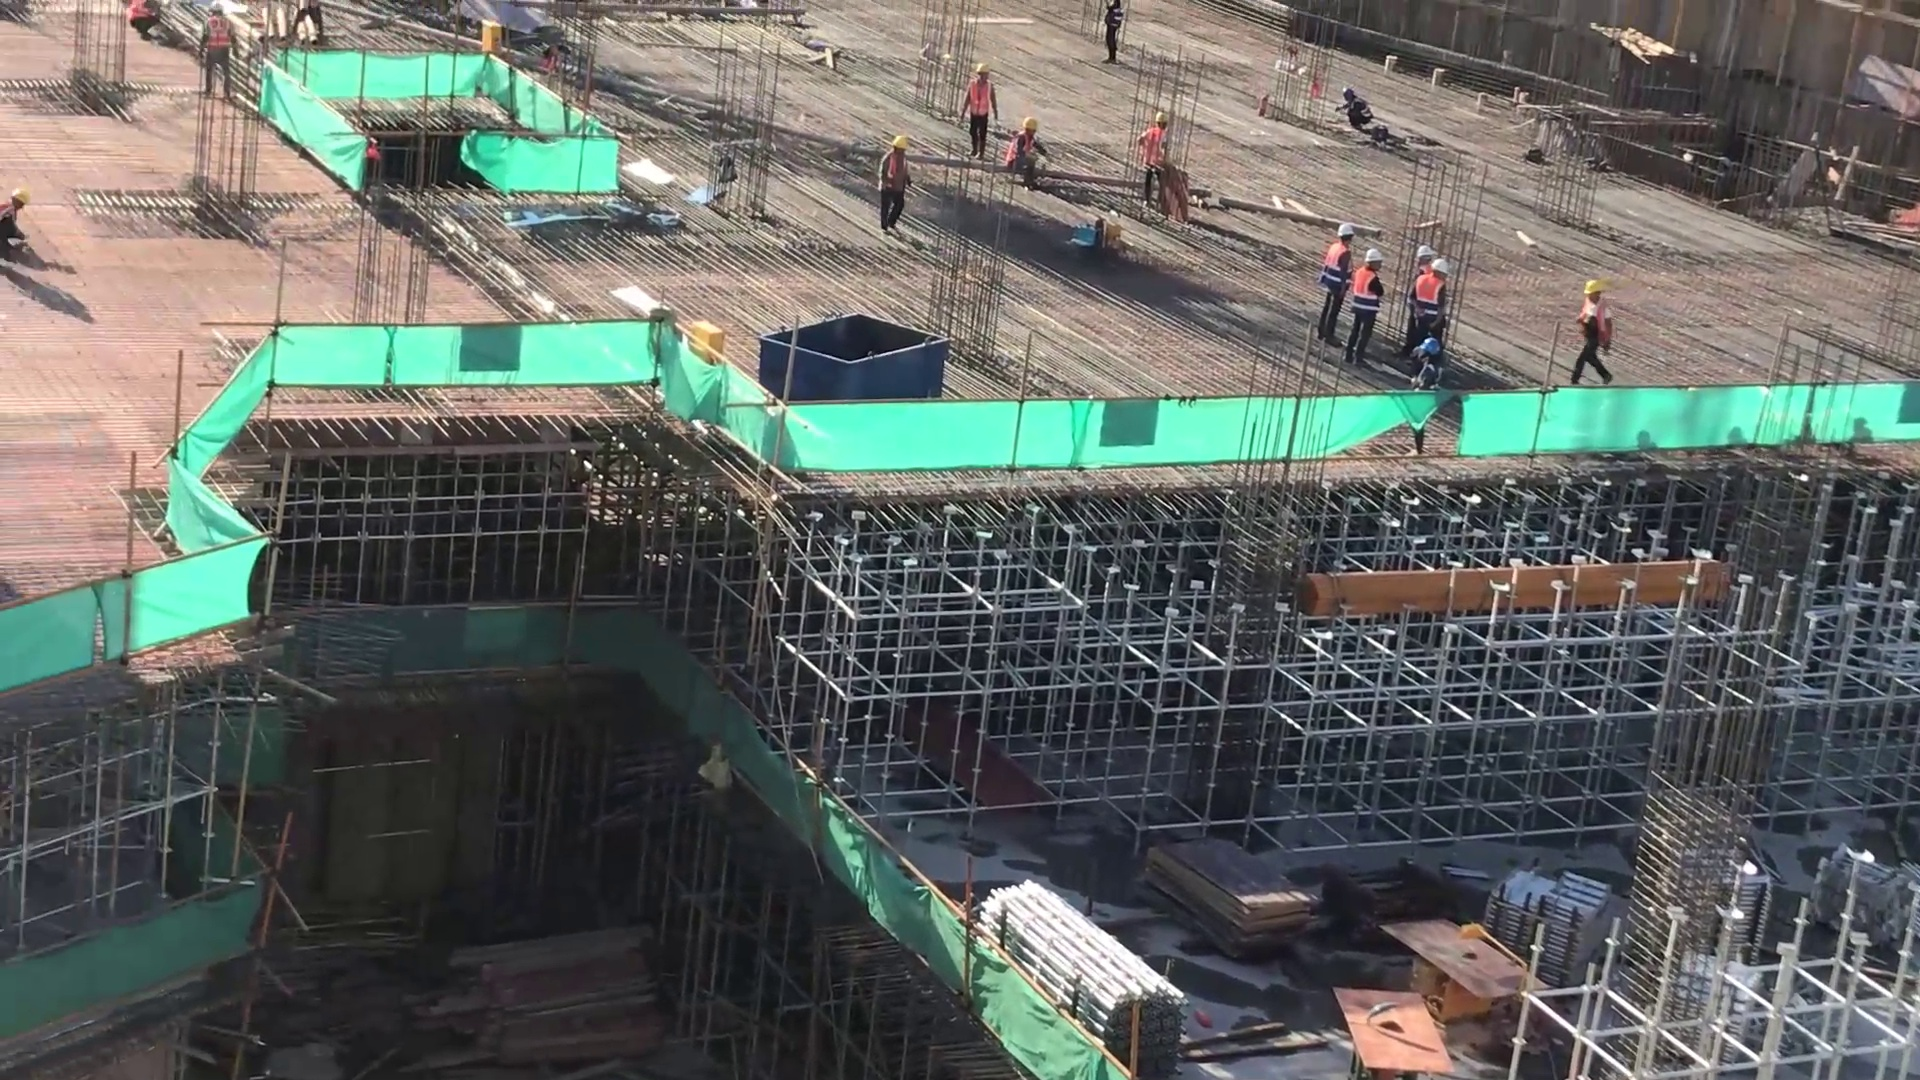board: (1139, 829, 1317, 969)
ebox: (679, 306, 725, 363)
helmet: (1334, 222, 1453, 280), (1574, 278, 1612, 302)
hopper: (750, 307, 953, 400)
person: (1401, 245, 1450, 382), (1569, 275, 1614, 390), (1345, 246, 1385, 374), (195, 3, 239, 108), (1315, 225, 1352, 349), (956, 58, 996, 158), (1136, 115, 1174, 214), (1002, 114, 1047, 195), (883, 133, 916, 239), (3, 185, 28, 270), (1339, 84, 1374, 136), (1101, 1, 1126, 73)
scaffold: (973, 872, 1197, 1080), (1490, 858, 1605, 968)
vest: (1410, 275, 1443, 320), (1317, 240, 1345, 291), (1352, 272, 1378, 314)
